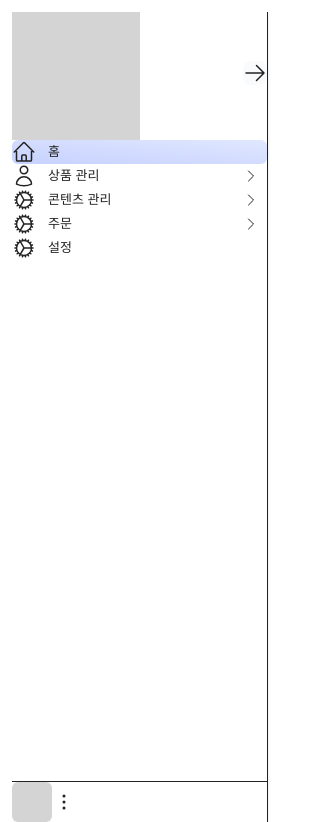
it: 관리자 사이드바 › Content Management 를 펼치면 다섯 하위 메뉴가 전부 링크로 보인다
Click the button "콘텐츠 관리".
click(140, 200)  # box [12, 188, 267, 212]
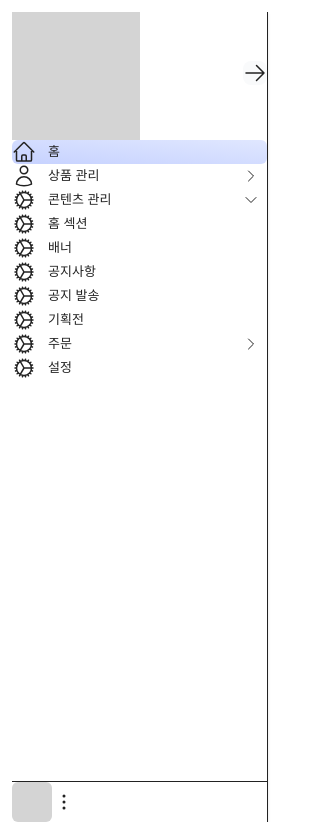
Check: the button "콘텐츠 관리" is expanded, box [12, 188, 267, 212]
